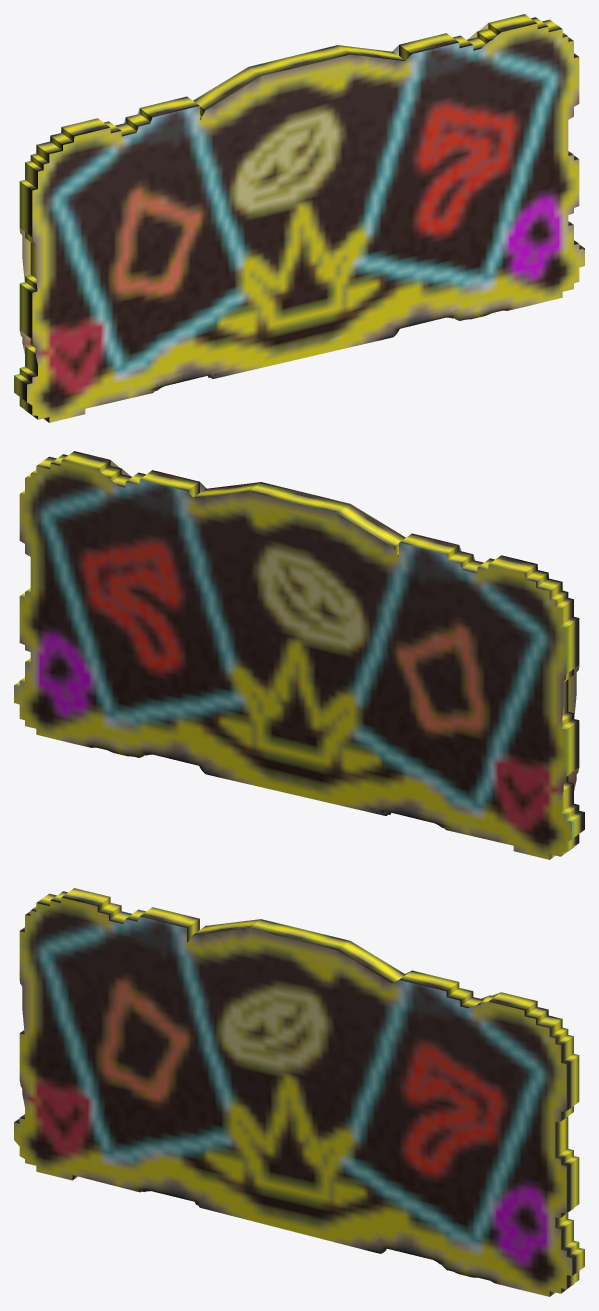
File: Poly_SF_Outside_B_Board_Neo_Sign_17.obj
The picture shows the model from 3 angles, top to bottom: view 1: azimuth 30°, elevation 25°; view 2: azimuth 150°, elevation 25°; view 3: azimuth 330°, elevation 25°; orthographic projection.
Visible parts, largest first — view 1: Cube; view 2: Cube; view 3: Cube.
Part boxes in pixels (x1=…): Cube: x1=14, y1=14, x2=584, y2=422; Cube: x1=14, y1=451, x2=584, y2=859; Cube: x1=14, y1=888, x2=584, y2=1296.
Size of the model in its own units: 2 by 1.01 by 0.0802.
Materials: 1 (1 with a texture image).
